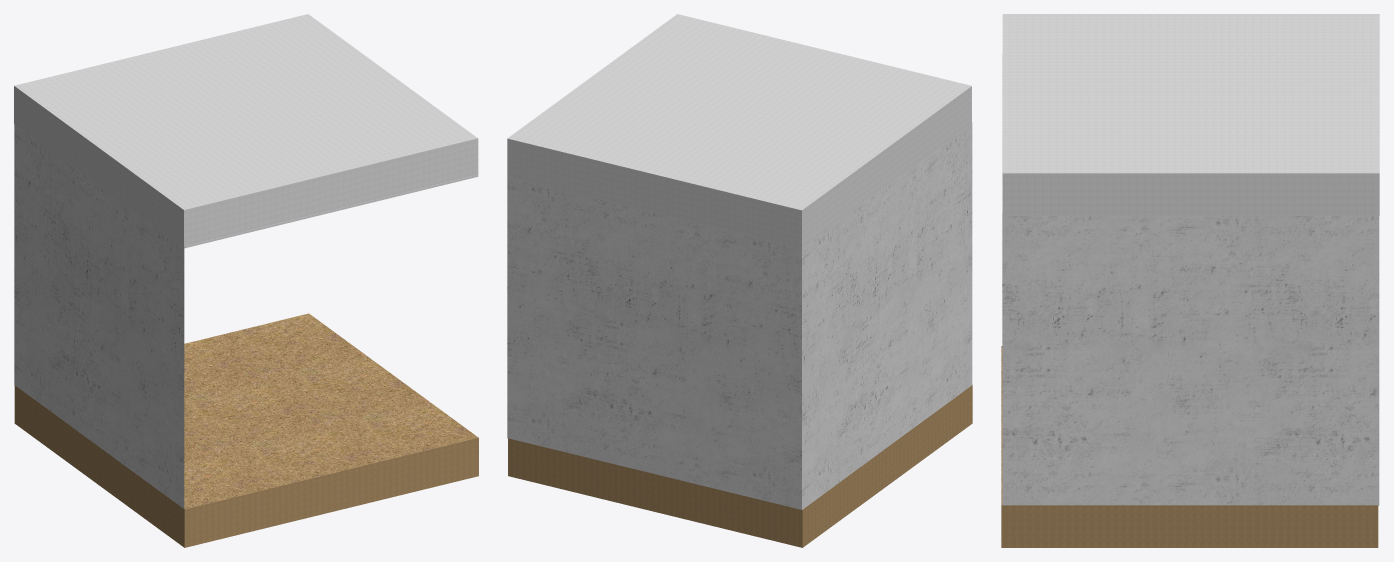
File: concretepad.gltf
The picture shows the model from 3 angles, left to right: view 1: azimuth 30°, elevation 25°; view 2: azimuth 150°, elevation 25°; view 3: azimuth 270°, elevation 25°; orthographic projection. The views are drawn at different scales.
Visible parts, largest first — view 1: Above Grade, Drainage Bed, Inside Concrete Pad; view 2: Inside Concrete Pad, Above Grade, Drainage Bed; view 3: Inside Concrete Pad, Above Grade, Drainage Bed.
Part boxes in pixels (x1,y1,x2,y2): Above Grade: (14,14,478,248); Drainage Bed: (14,313,478,547); Inside Concrete Pad: (14,124,477,508); Inside Concrete Pad: (507,122,972,509); Above Grade: (507,14,971,248); Drainage Bed: (508,385,972,547); Inside Concrete Pad: (1002,54,1379,505); Above Grade: (1002,14,1379,215); Drainage Bed: (1001,346,1378,547).
Size of the model in its own units: 1.22 by 1.34 by 1.22.
2 materials, 2 textured.
